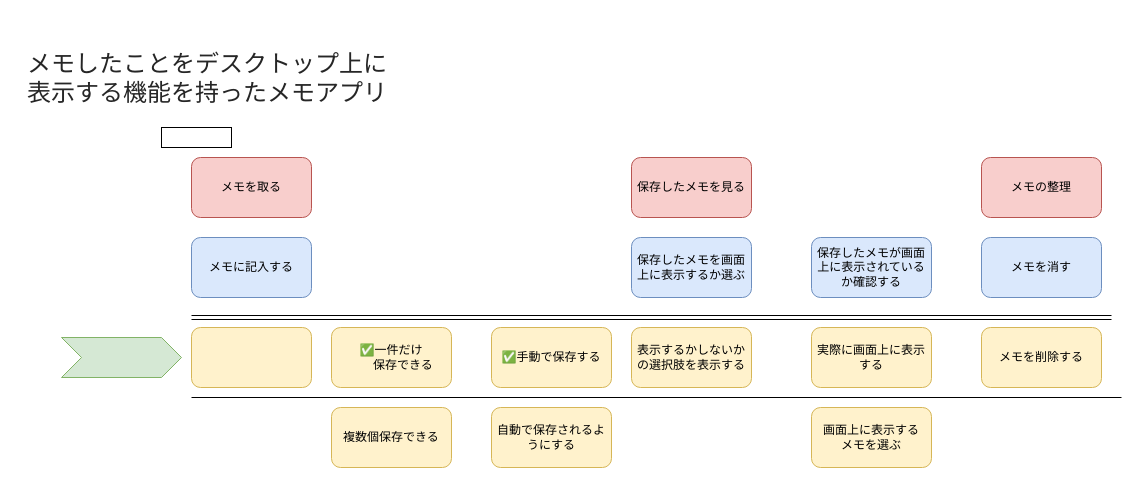
Some shapes in this 1140 by 485 pixel diagram are drawn without their labels. Here are the shapes that lost their labels. From the top down, the box of each, then its label:
(160, 126, 232, 148): 学生
(60, 336, 182, 378): ウォーキングスケルトン
(190, 326, 312, 388): メモアプリに 書き込む
